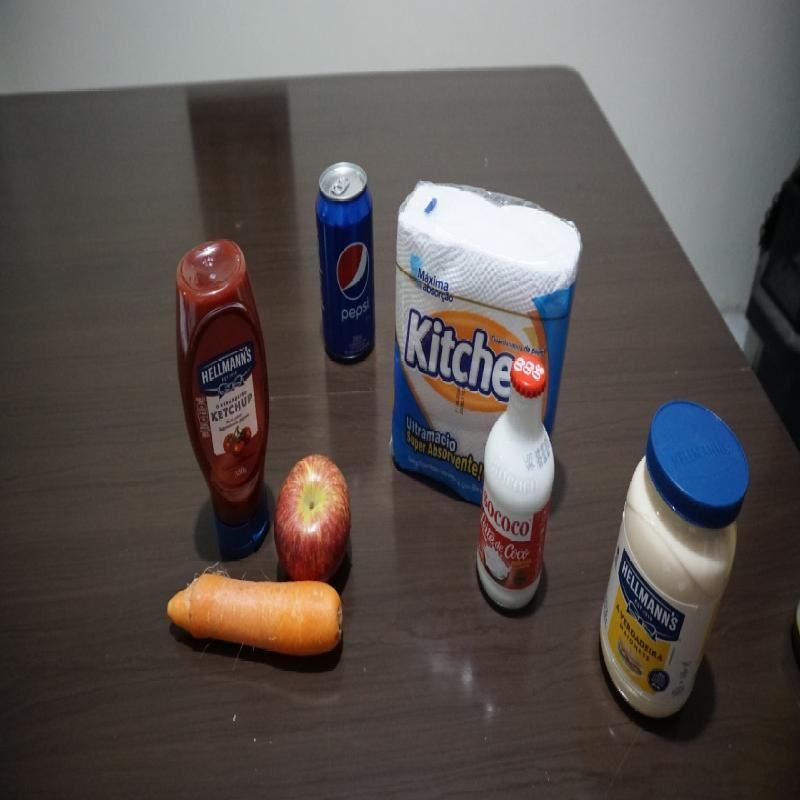Apple: (271, 452, 354, 581)
Carrot: (165, 566, 347, 660)
Coconut Milk: (473, 349, 558, 621)
Ketchup: (170, 240, 277, 561)
Mayonnaise: (598, 396, 751, 727)
Napkin: (388, 171, 587, 531)
Soda can: (314, 158, 377, 366)
